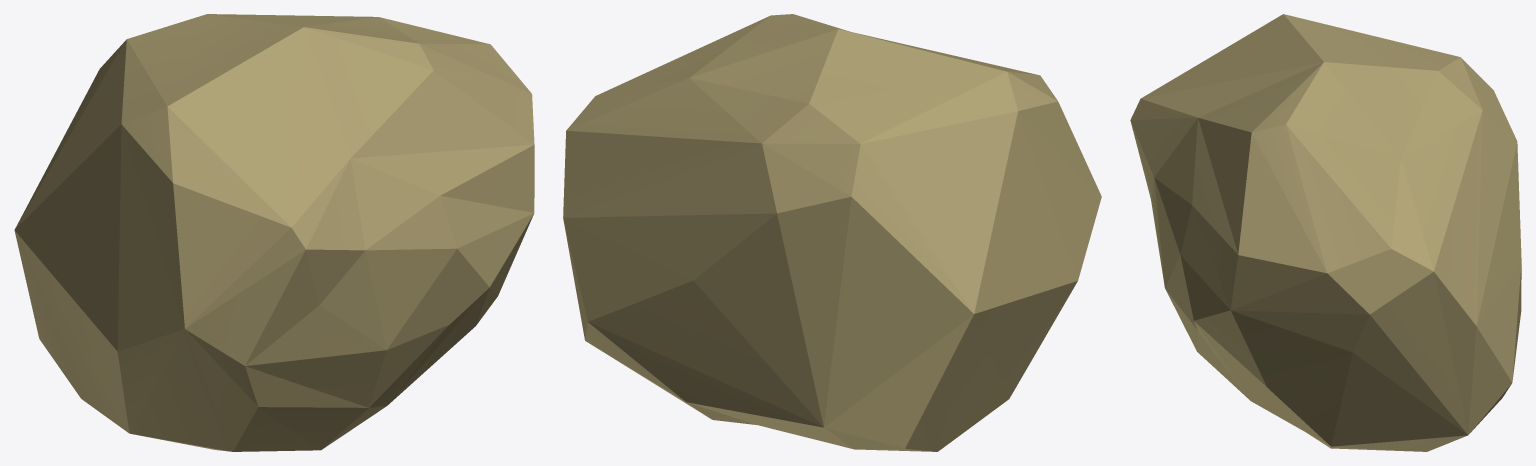
File: SM_rock_16.fbx
3 views of the same model, side by side, from view 1: azimuth 30°, elevation 25°; view 2: azimuth 150°, elevation 25°; view 3: azimuth 270°, elevation 25° (orthographic). The views are drawn at different scales.
Parts seen in each view (by area): view 1: rock_16; view 2: rock_16; view 3: rock_16.
Part boxes in pixels (left/top/right/bottom): rock_16: left=14, top=14, right=534, bottom=451; rock_16: left=563, top=14, right=1101, bottom=451; rock_16: left=1130, top=14, right=1521, bottom=451.
Bounding box in the file's own units: 200 × 163 × 163.
